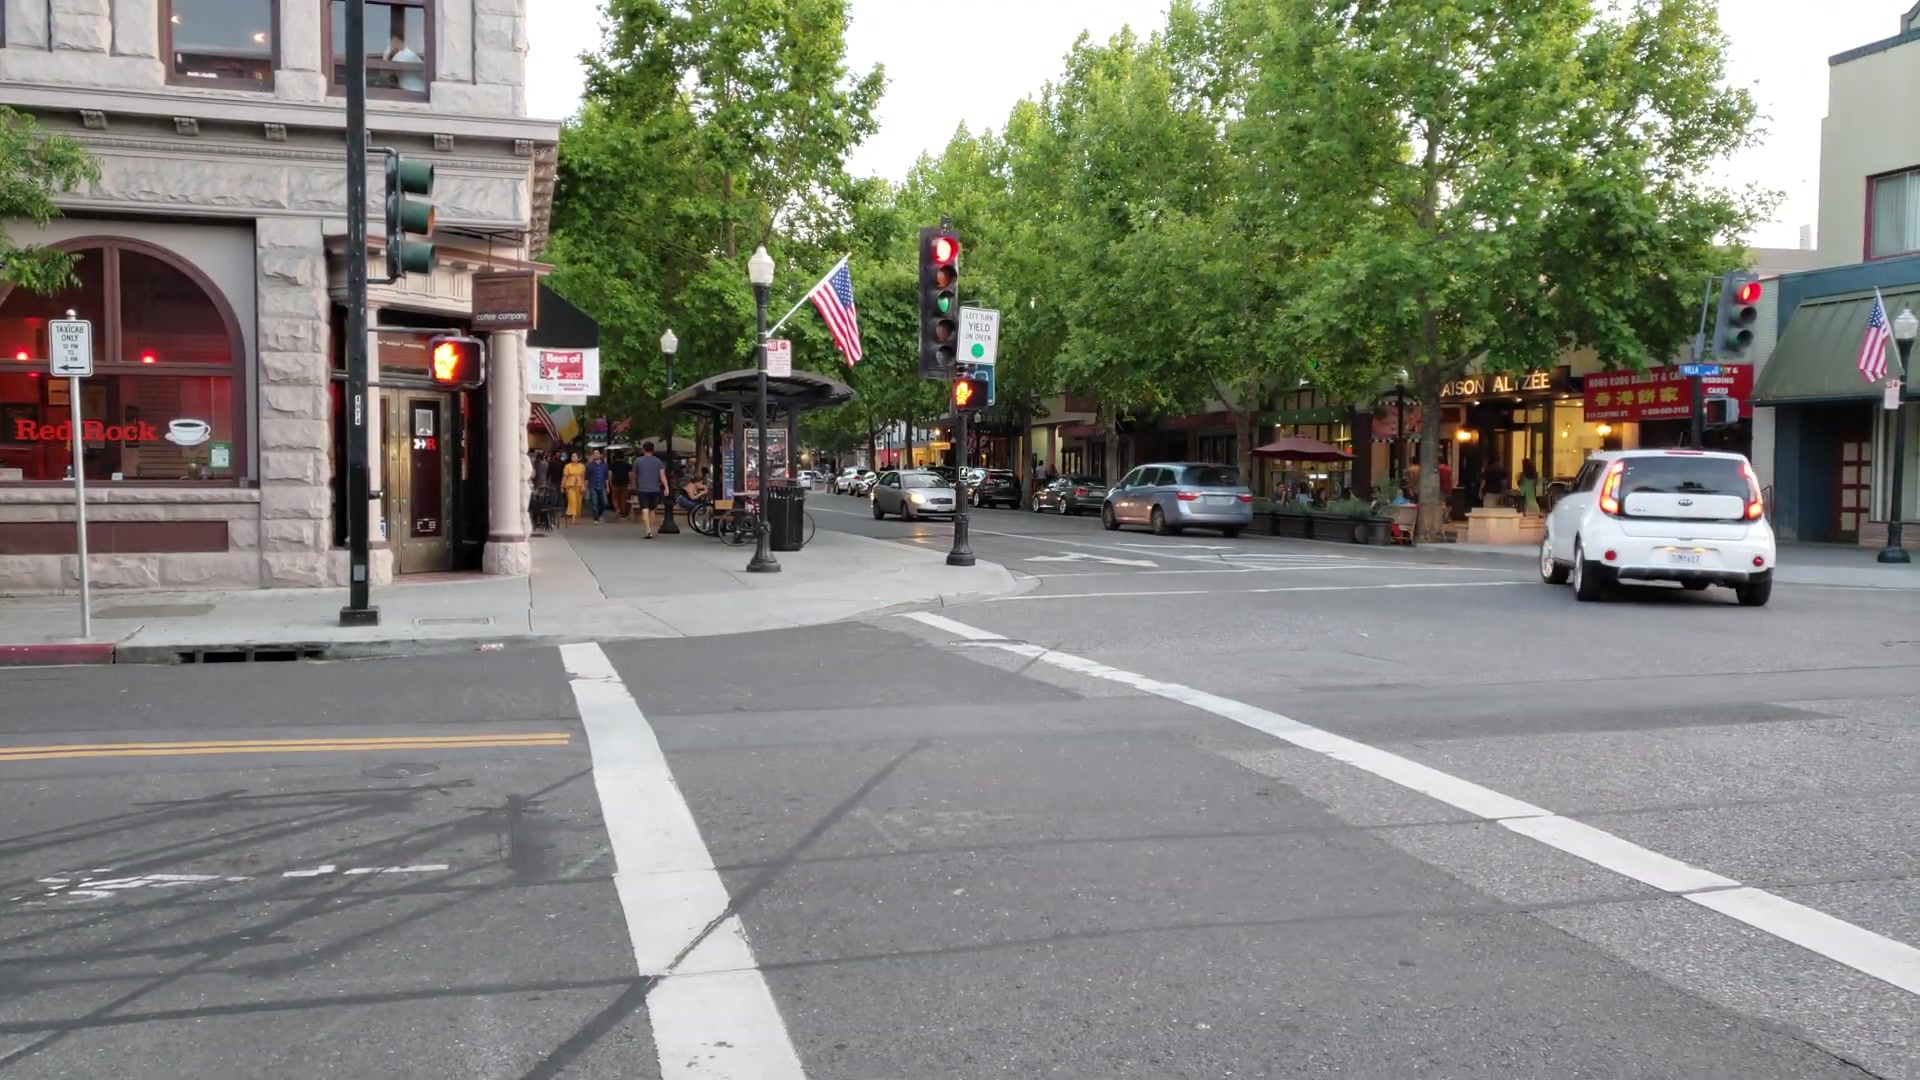vehicle: (1542, 448, 1776, 609), (1102, 459, 1254, 535), (869, 471, 957, 521)
